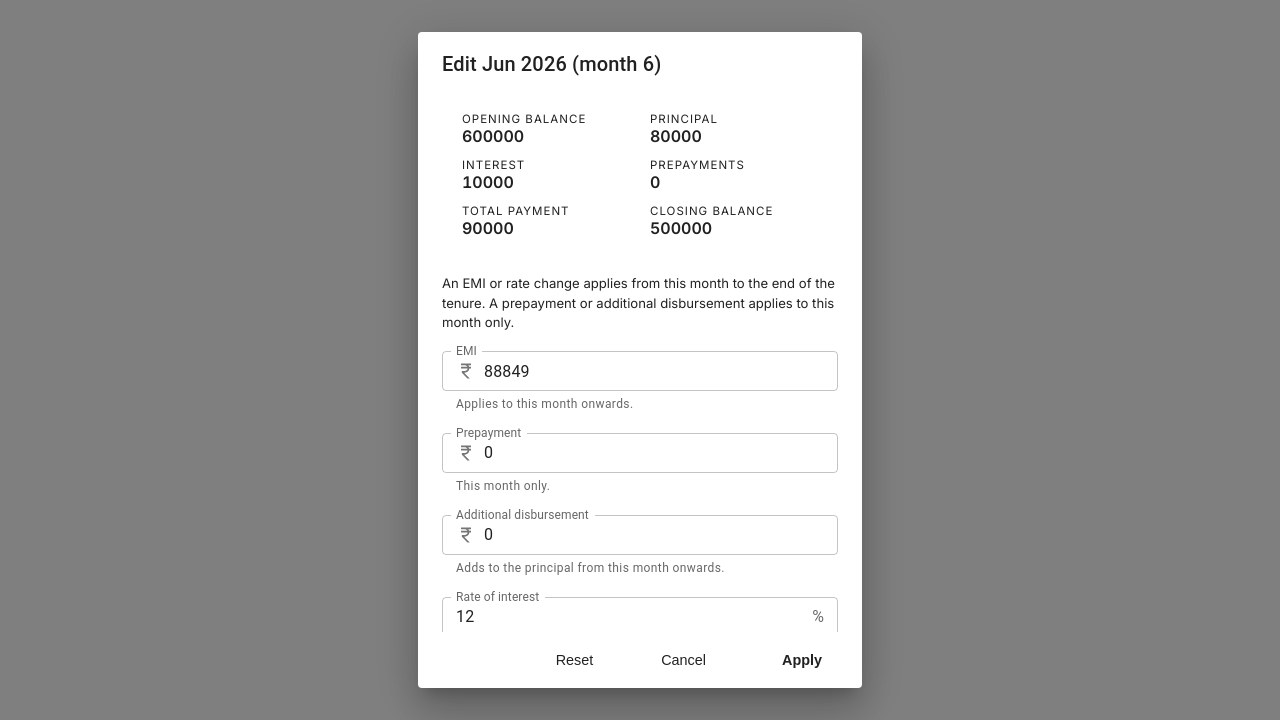
Test: AmortisationMonthDialog › Apply › blocks a negative amount
Replace the text in the number field labelled "EMI" with "-500" at (661, 371), box [484,351,838,391]
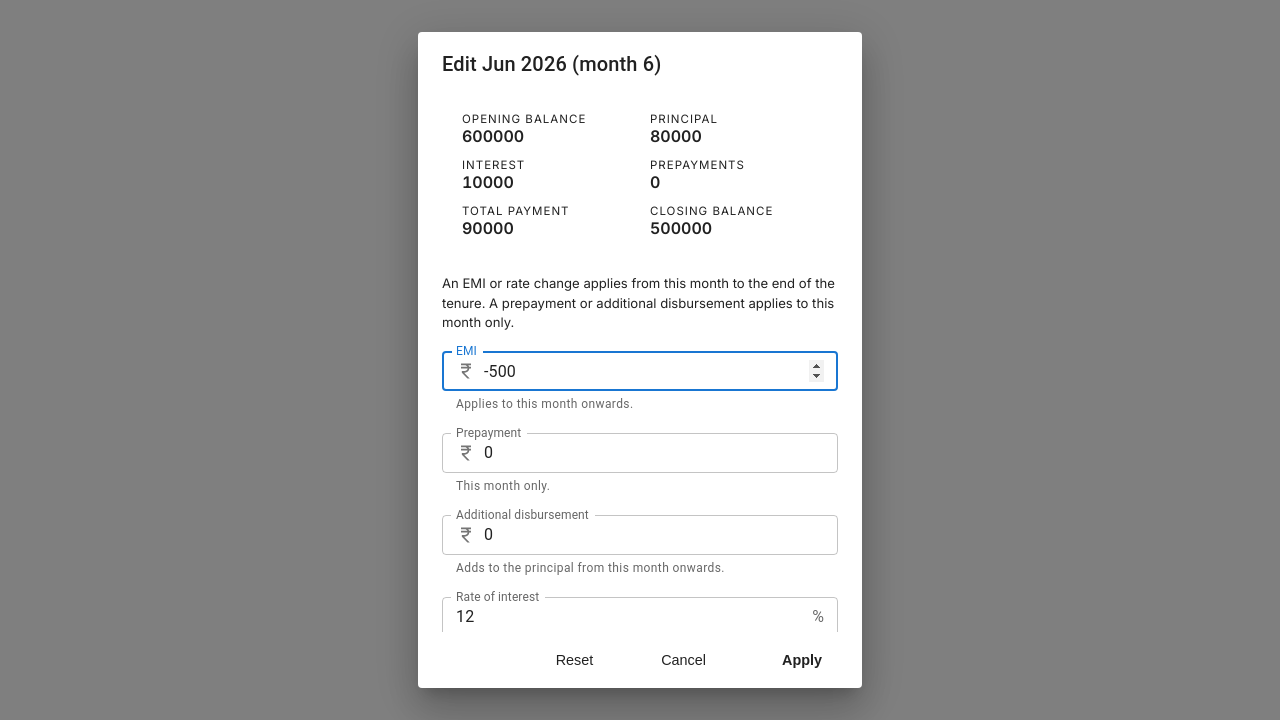
Click the button with test id "amortisation-apply" at (802, 660), box [750,640,854,680]
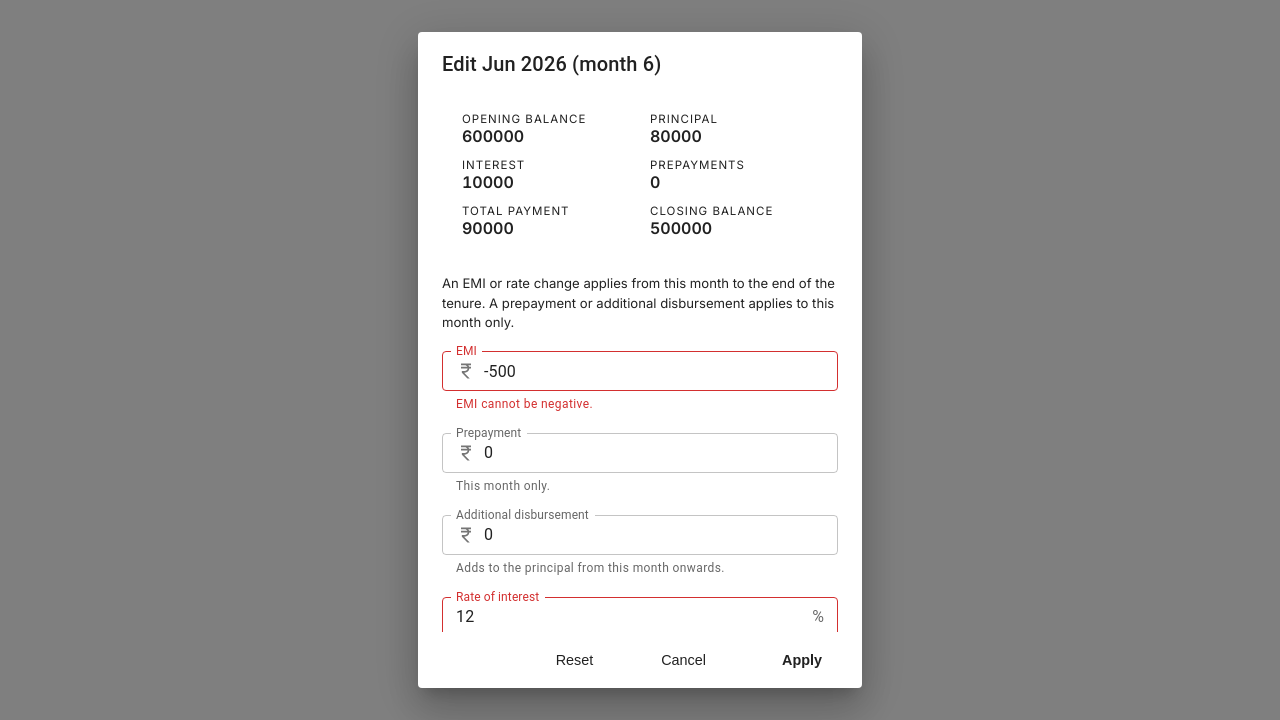
Expected: the text "EMI cannot be negative." is shown, [456,397,593,411]
